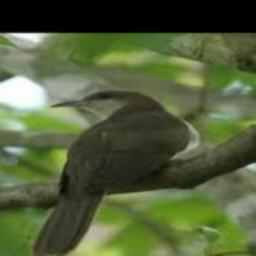Cuckoo: (32, 89, 200, 256)
